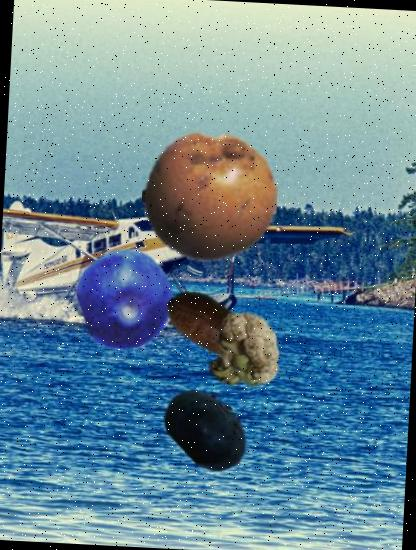Blueberry: (158, 379, 256, 478)
Cauliflower: (200, 310, 286, 396)
Granadilla: (139, 125, 281, 266)
Huckleberry: (73, 245, 179, 351)
Nut: (160, 274, 261, 376)
